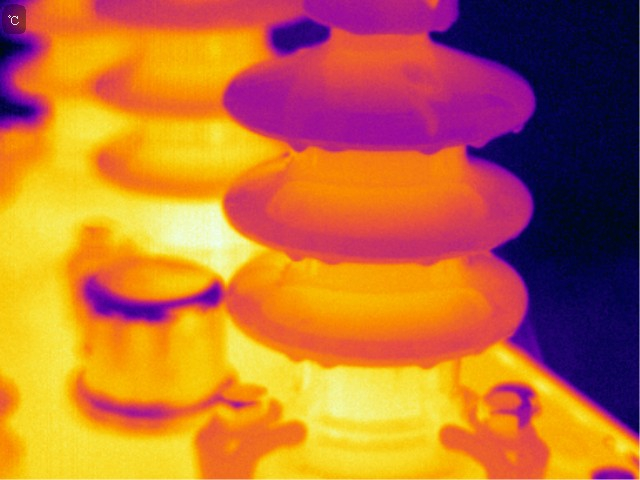Oil: (287, 247, 348, 267), (505, 112, 531, 143), (290, 39, 315, 64), (282, 345, 303, 373), (413, 143, 446, 157), (285, 137, 310, 154), (468, 134, 486, 152), (417, 256, 443, 268), (418, 1, 444, 13), (318, 356, 338, 371), (420, 356, 437, 371)
